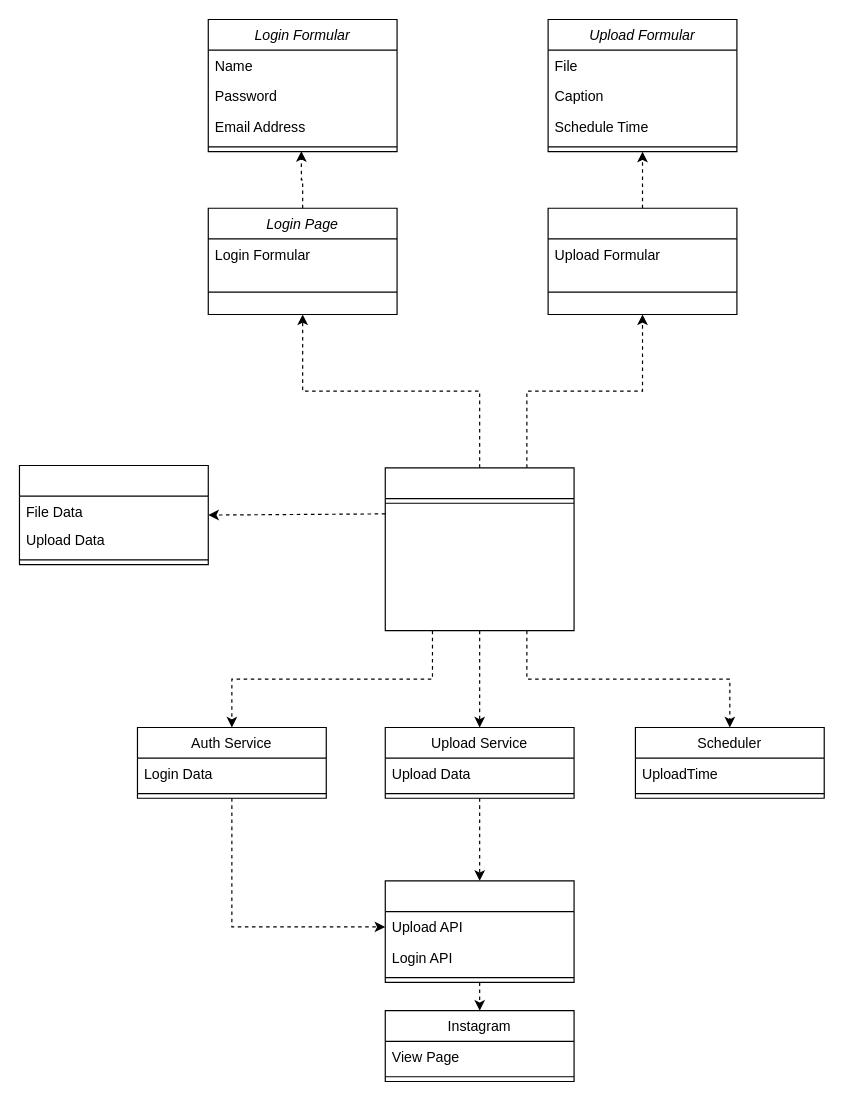
Some shapes in this 844 by 1101 pixel diagram are drawn without their labels. The box of each missing label's shape, as (x1, y1, x2, y2) in pixels:
App Server: (384, 467, 574, 631)
DB: (18, 464, 208, 565)
InstagrAPI: (384, 880, 574, 982)
Upload Page: (547, 207, 737, 314)
